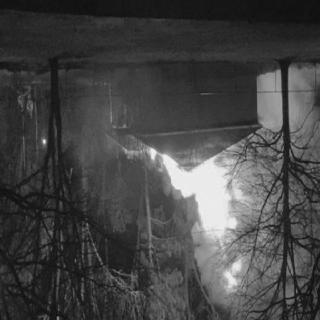Smoke: (263, 90, 303, 278)
other: (37, 133, 51, 153)
